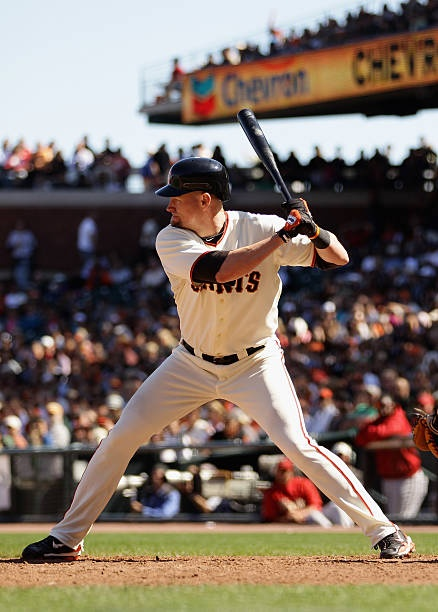bita: (236, 105, 318, 231)
